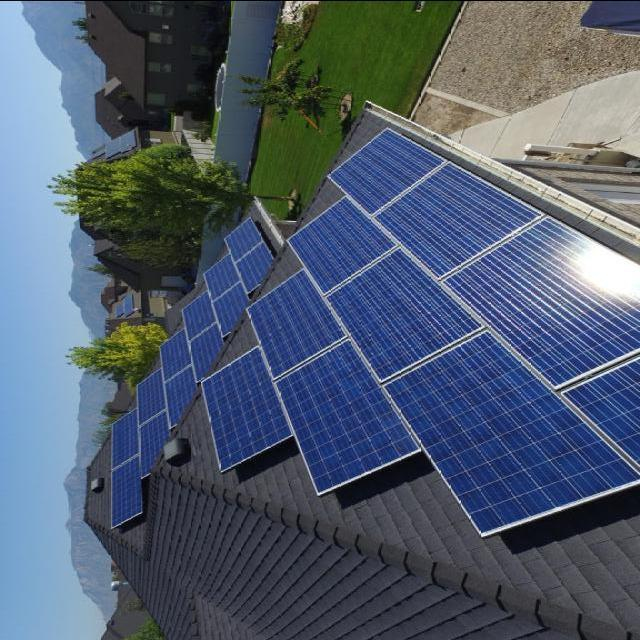Photovoltaic-Panel: (201, 129, 640, 535), (111, 217, 275, 526)
